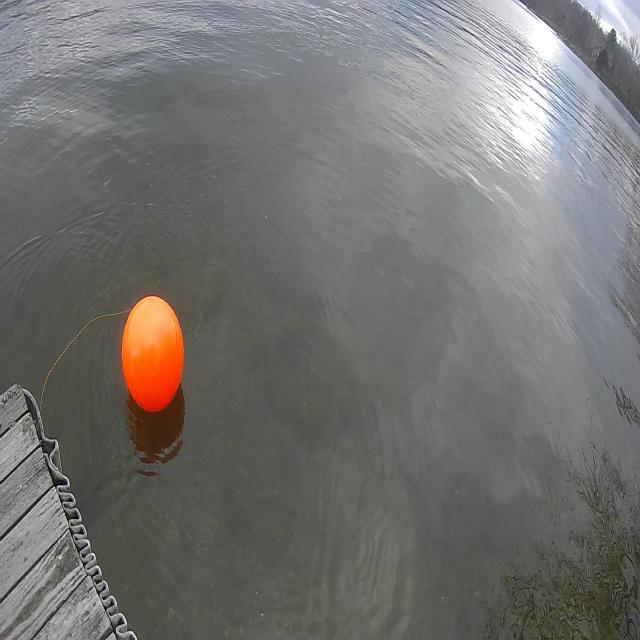Buoy: (116, 285, 192, 427)
